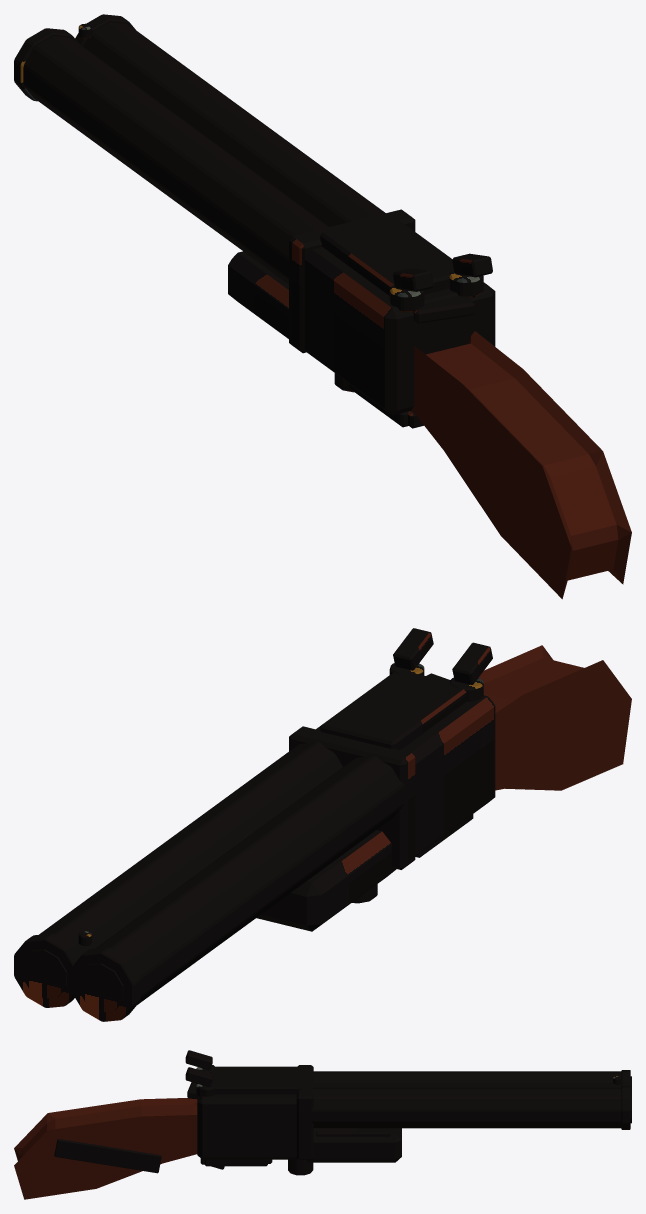
Rendered from TraditionalDoubleBarrel.fbx.
The picture shows the model from 3 angles, top to bottom: view 1: azimuth 30°, elevation 25°; view 2: azimuth 150°, elevation 25°; view 3: azimuth 270°, elevation 25°; orthographic projection. The views are drawn at different scales.
Visible parts, largest first — view 1: TraditionalDoubleBarrel_Body, BreakAction_Barrels; view 2: BreakAction_Barrels, TraditionalDoubleBarrel_Body; view 3: TraditionalDoubleBarrel_Body, BreakAction_Barrels.
Part boxes in pixels (x1,y1,x2,y2): TraditionalDoubleBarrel_Body: (289, 209, 631, 599); BreakAction_Barrels: (14, 14, 385, 353); BreakAction_Barrels: (14, 741, 404, 1021); TraditionalDoubleBarrel_Body: (289, 628, 631, 903); TraditionalDoubleBarrel_Body: (14, 1050, 313, 1199); BreakAction_Barrels: (305, 1070, 631, 1162).
Size of the model in its own units: 0.8703 by 1.54 by 6.64.
